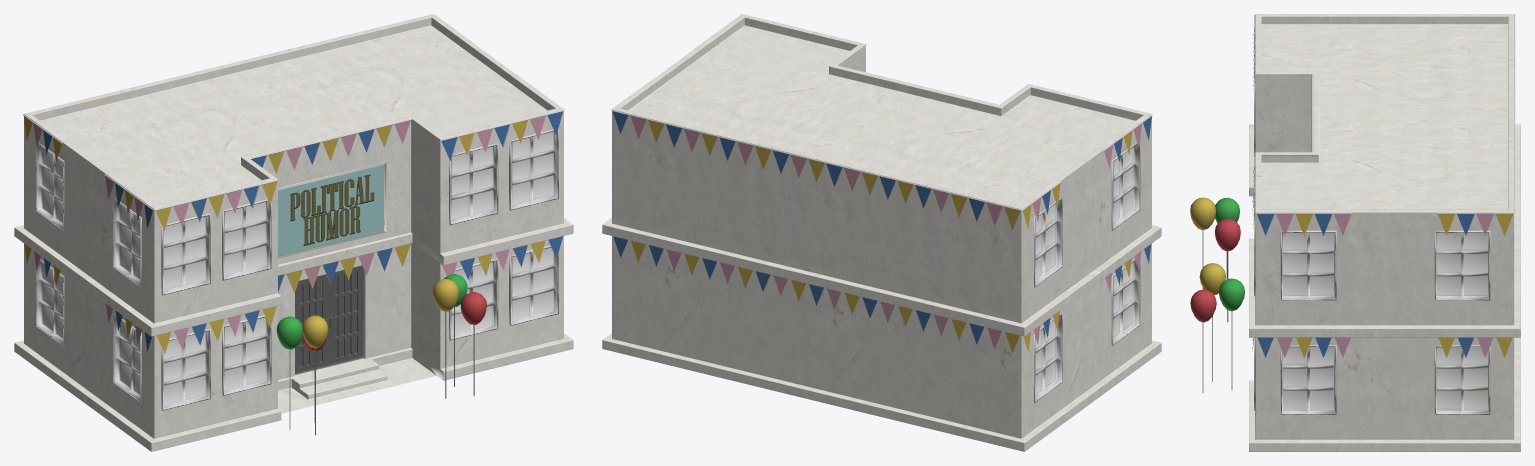
File: BUILDING_PoliticalHumor_2.fbx
3 views of the same model, side by side, from view 1: azimuth 30°, elevation 25°; view 2: azimuth 150°, elevation 25°; view 3: azimuth 270°, elevation 25° (orthographic).
Visible parts, largest first — view 1: BUILDING_PoliticalHumor_2_Baked; view 2: BUILDING_PoliticalHumor_2_Baked; view 3: BUILDING_PoliticalHumor_2_Baked.
Boxes of the visible parts, <box> form: BUILDING_PoliticalHumor_2_Baked: <box>14,14,573,451</box>; BUILDING_PoliticalHumor_2_Baked: <box>602,14,1161,451</box>; BUILDING_PoliticalHumor_2_Baked: <box>1190,14,1520,451</box>.
Size of the model in its own units: 160 by 86.81 by 110.
Materials: 1 (1 with a texture image).
